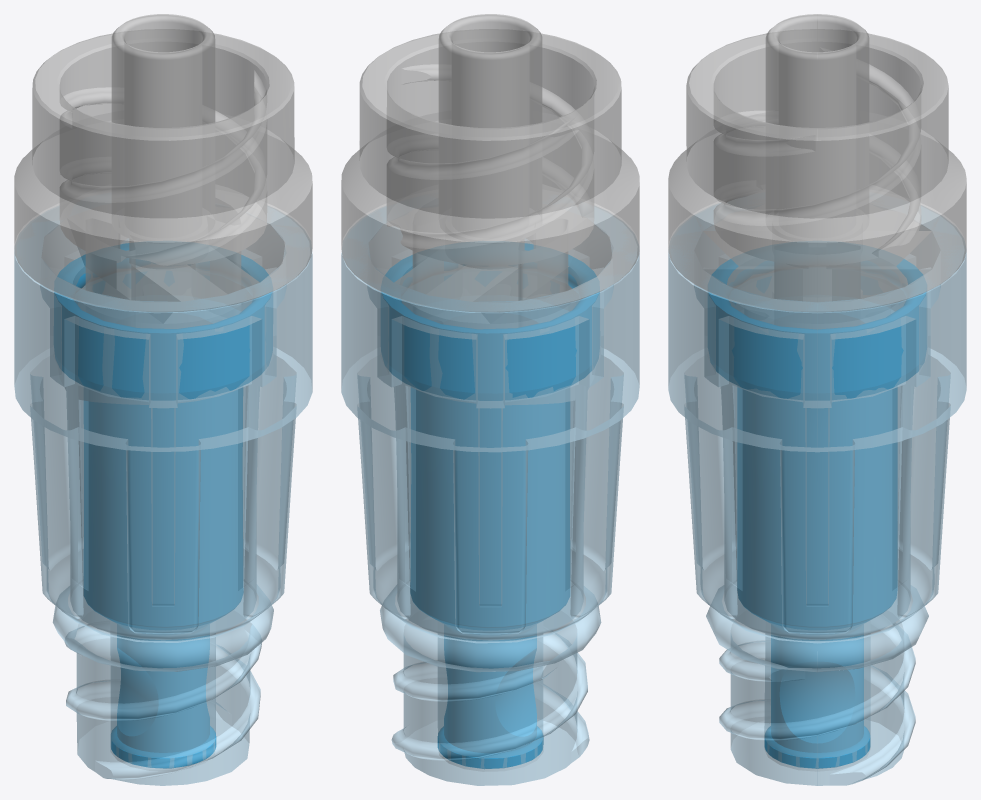
The model's file is BDMaxZero_GLB.glb.
The picture shows the model from 3 angles, left to right: view 1: azimuth 30°, elevation 25°; view 2: azimuth 150°, elevation 25°; view 3: azimuth 270°, elevation 25°; orthographic projection.
Parts seen in each view (by area): view 1: Object_4, Object_6, Object_2; view 2: Object_4, Object_6, Object_2; view 3: Object_4, Object_6, Object_2.
Boxes of the visible parts, x1,y1,x2,y2 form: Object_4: (14,206,312,785); Object_6: (14,14,312,328); Object_2: (54,243,272,768); Object_4: (341,206,639,785); Object_6: (341,14,639,328); Object_2: (381,243,599,768); Object_4: (668,203,966,785); Object_6: (668,14,966,328); Object_2: (708,259,926,768).
Bounding box in the file's own units: 0.0115 × 0.0304 × 0.0115.
